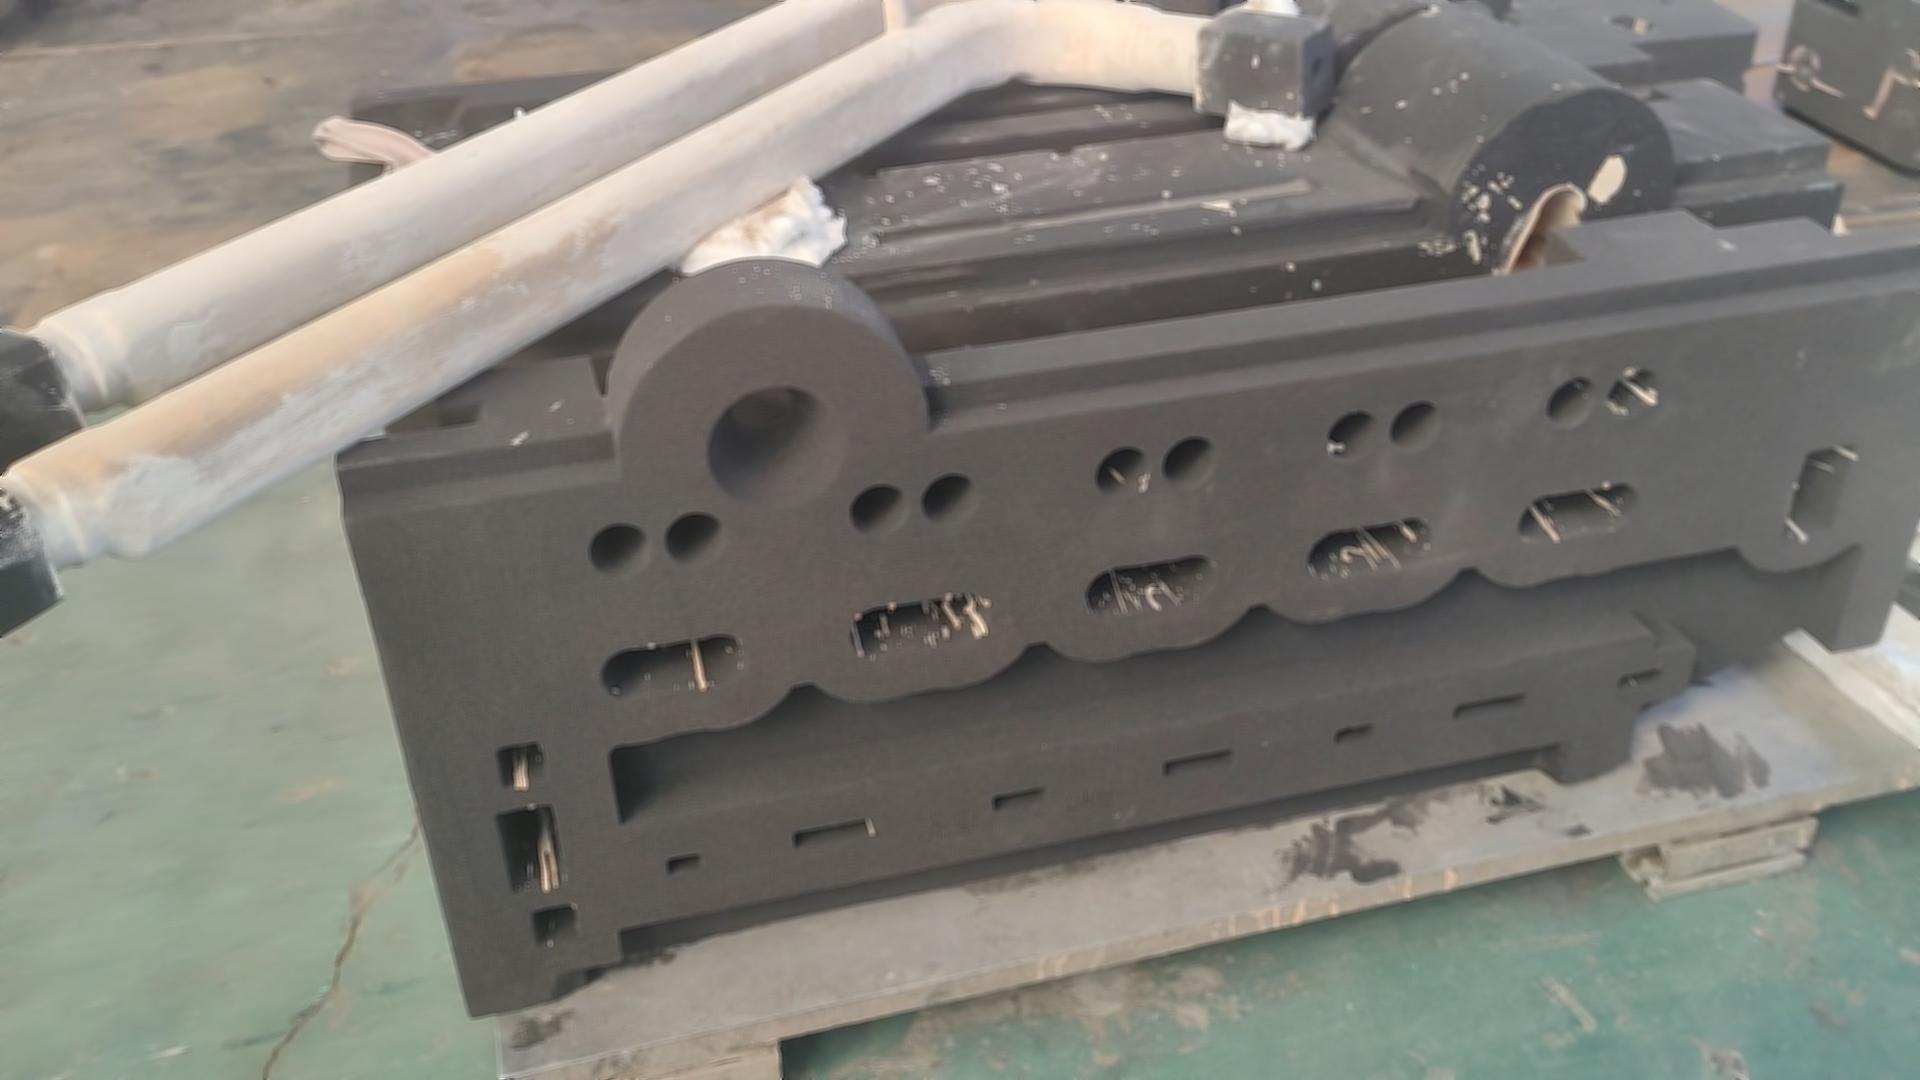pouring hole: (708, 386, 843, 510)
